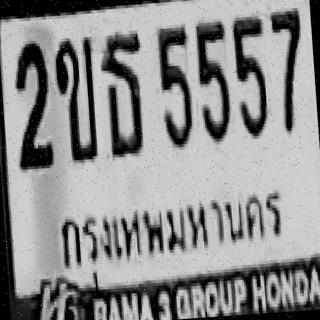A02: (51, 34, 99, 161)
A24: (98, 30, 146, 155)
N02: (9, 40, 53, 167)
N05: (230, 13, 268, 137), (193, 19, 230, 140), (156, 24, 193, 145)
N07: (268, 5, 306, 132)
P04: (52, 185, 288, 268)
